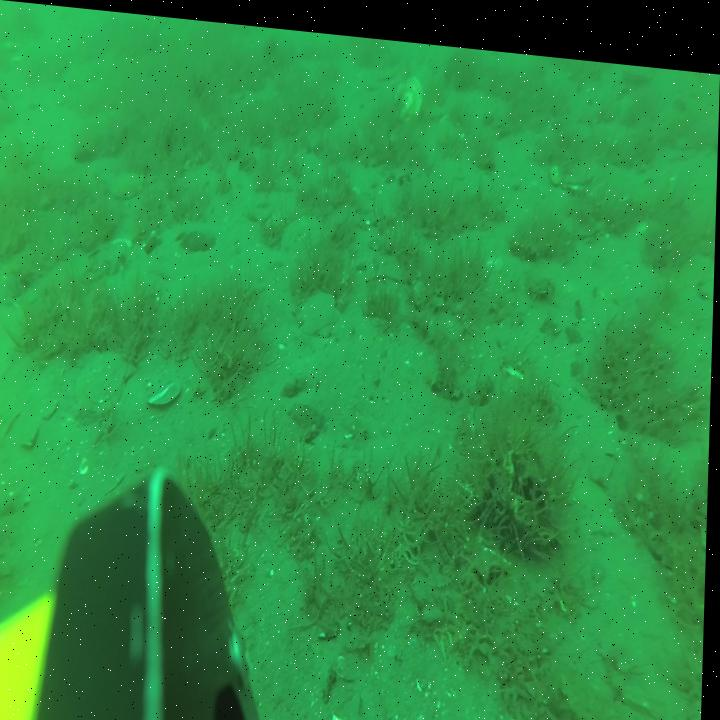scallop: (81, 347, 135, 400), (298, 282, 343, 327), (553, 142, 601, 180), (395, 68, 422, 117), (112, 167, 144, 197)
